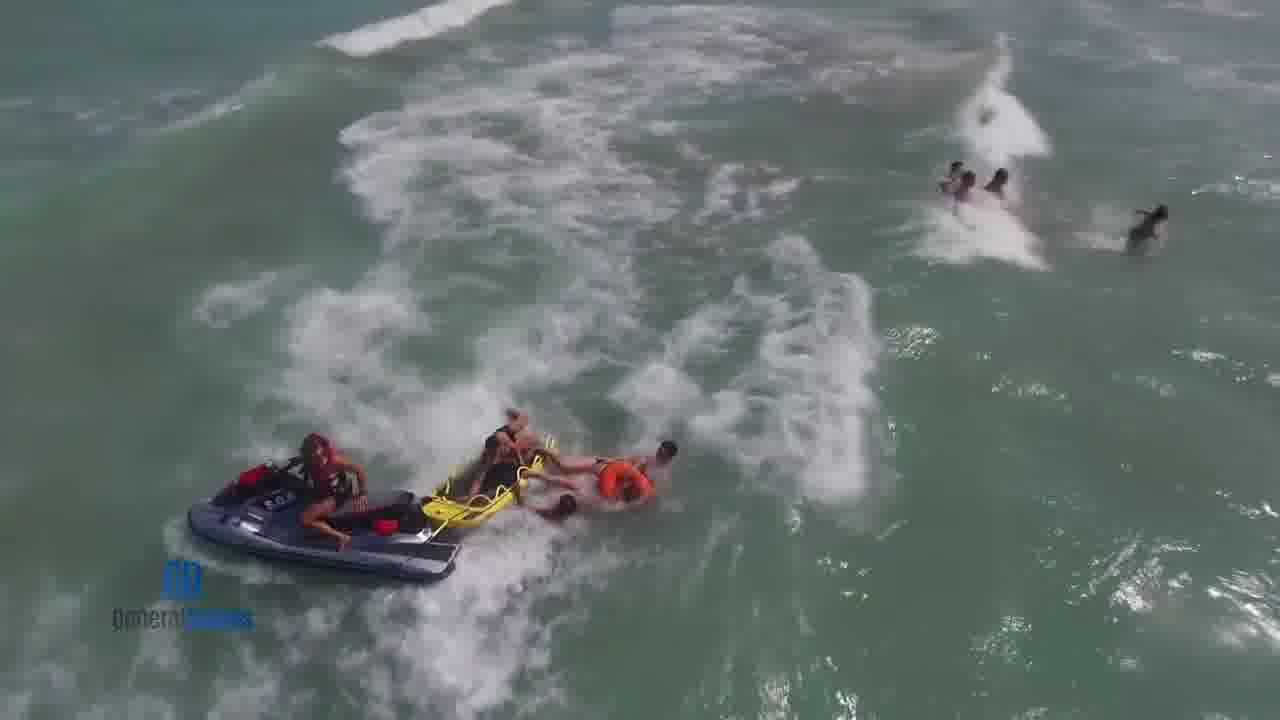swimmer: (1126, 196, 1184, 258), (938, 164, 983, 213), (491, 401, 531, 450), (652, 425, 689, 467), (546, 485, 581, 524), (987, 160, 1029, 190)
